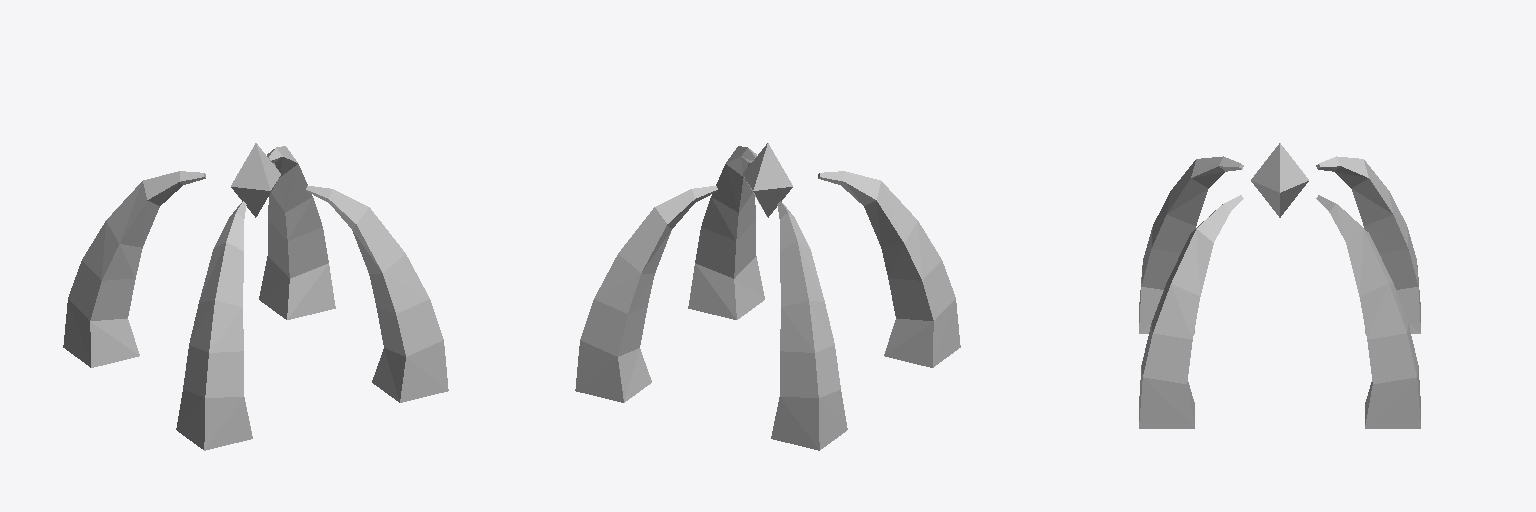
The model's file is Nexus.obj.
3 views of the same model, side by side, from view 1: azimuth 30°, elevation 25°; view 2: azimuth 150°, elevation 25°; view 3: azimuth 270°, elevation 25° (orthographic).
Visible parts, largest first — view 1: Pillars_Cube.001, Crystal_Plane.001; view 2: Pillars_Cube.001, Crystal_Plane.001; view 3: Pillars_Cube.001, Crystal_Plane.001.
Part boxes in pixels (left/top/right/bottom): Pillars_Cube.001: left=63, top=146, right=448, bottom=450; Crystal_Plane.001: left=231, top=143, right=280, bottom=217; Pillars_Cube.001: left=575, top=146, right=960, bottom=450; Crystal_Plane.001: left=743, top=143, right=792, bottom=217; Pillars_Cube.001: left=1139, top=156, right=1420, bottom=428; Crystal_Plane.001: left=1251, top=143, right=1308, bottom=217.
Bounding box in the file's own units: 6.77 × 6 × 6.77.